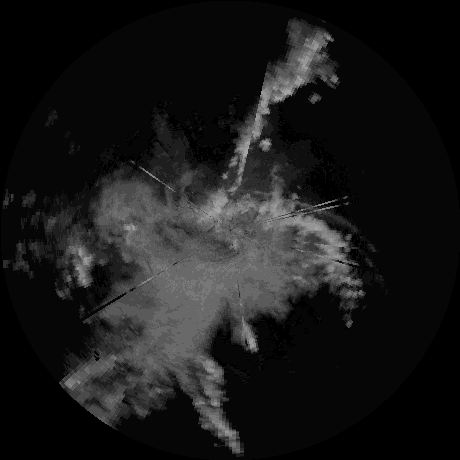frontgust: (296, 201, 357, 230), (242, 188, 271, 198)
